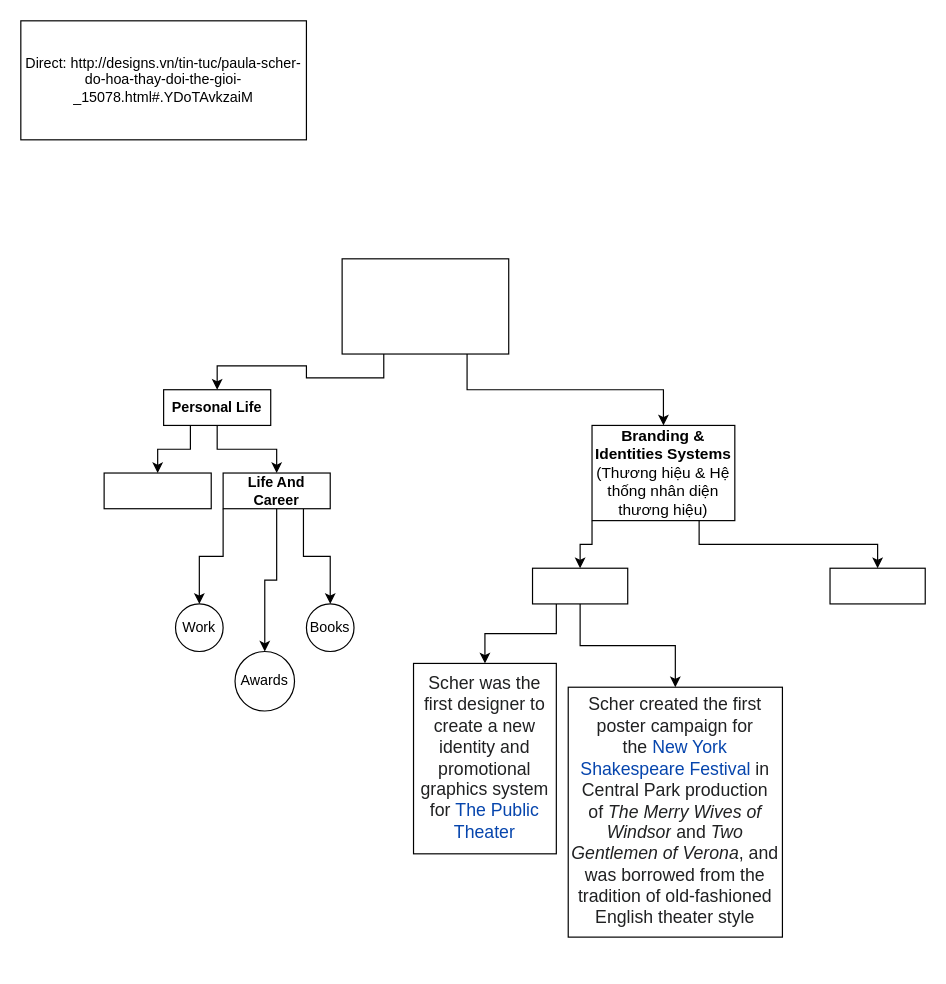
Image size: 946x984. Some labels were removed from this diagram. Each missing label, with the centre of its shape:
"About Paula Scher" belongs at point (425, 306).
"Education" belongs at point (157, 490).
"In 1994" belongs at point (579, 585).
"Now" belongs at point (877, 585).
